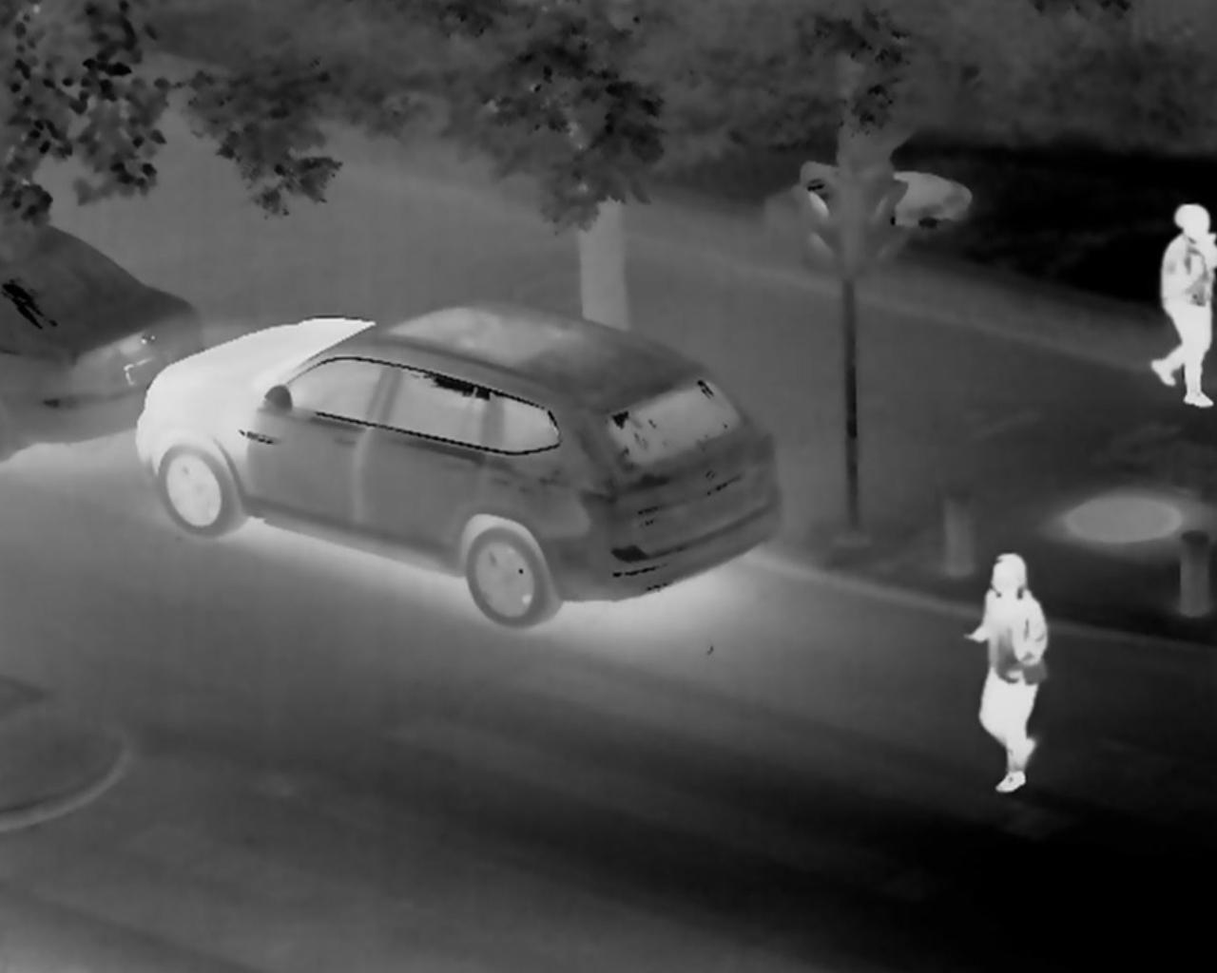person: (963, 549, 1053, 793), (1149, 200, 1217, 407)
